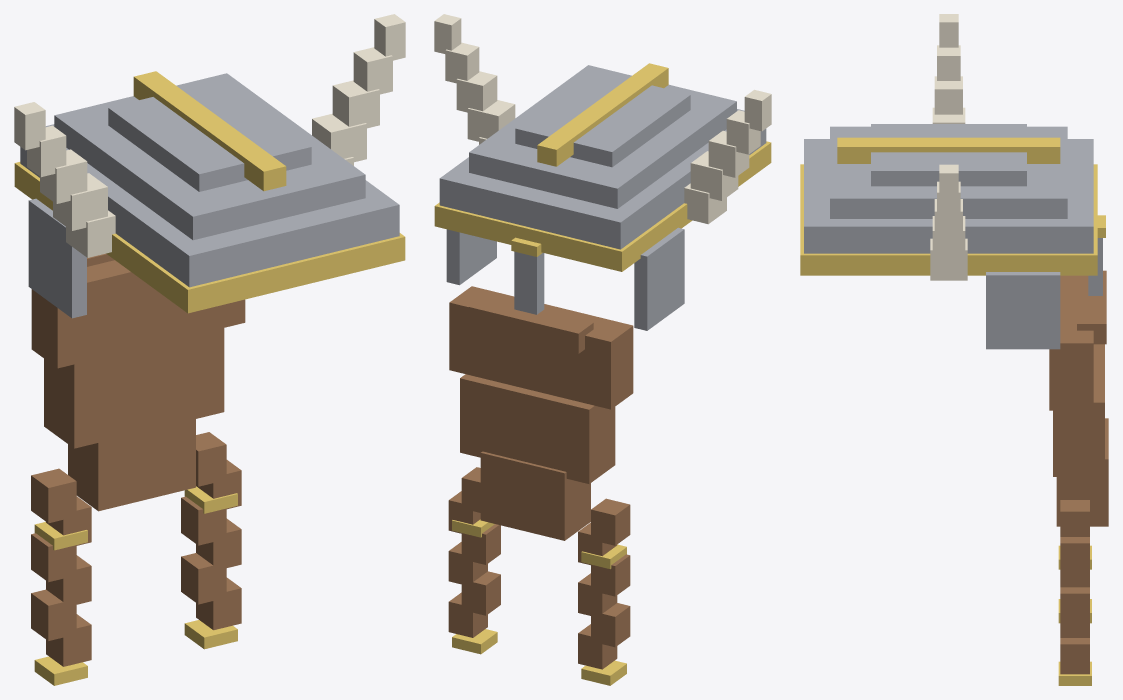
Rendered from elmo_viking_barba.glb.
The picture shows the model from 3 angles, left to right: view 1: azimuth 30°, elevation 25°; view 2: azimuth 150°, elevation 25°; view 3: azimuth 270°, elevation 25°; orthographic projection. The views are drawn at different scales.
Parts seen in each view (by area): view 1: elmo_viking_barba; view 2: elmo_viking_barba; view 3: elmo_viking_barba.
Boxes of the visible parts, x1,y1,x2,y2 form: elmo_viking_barba: (14,14,405,685); elmo_viking_barba: (434,14,771,685); elmo_viking_barba: (800,14,1108,685).
Bounding box in the file's own units: 1.01 × 1.64 × 0.83.
